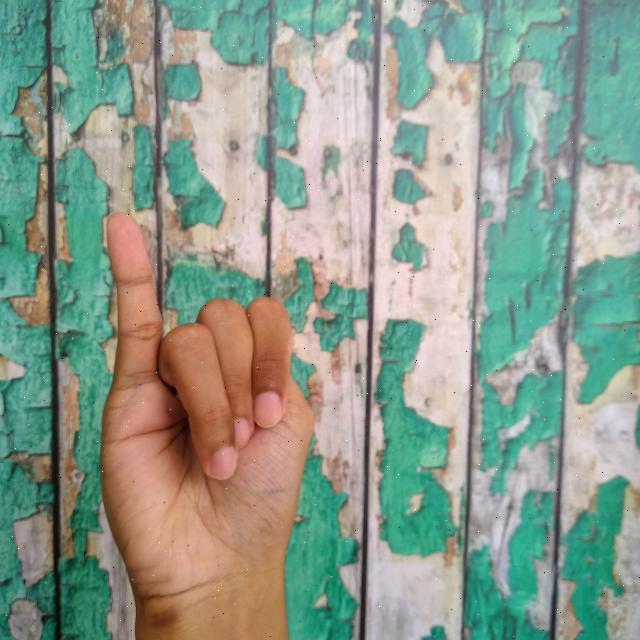I: (100, 203, 314, 640)
